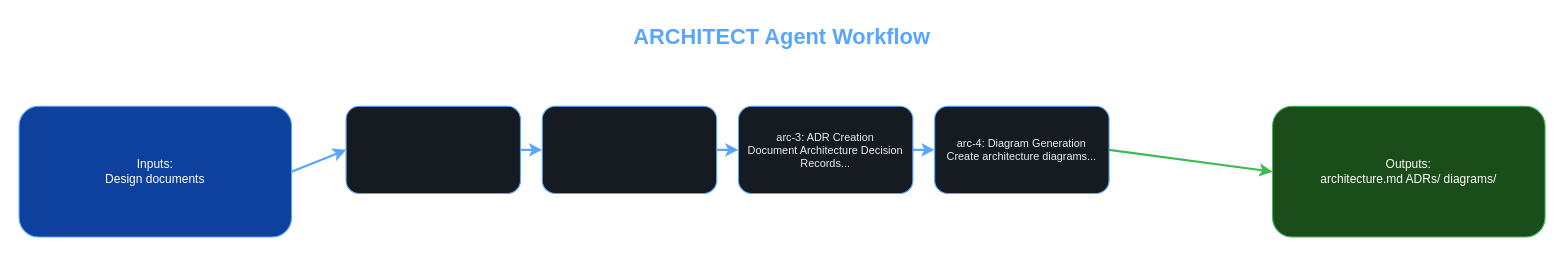
Image size: 1564x256. Some labels were removed from this diagram. Here are the shapes that lost their labels. From the top down, the centre of each, then its label:
pixel 432 149: arc-1: Tech Stack Selection Choose appropriate technologies...
pixel 629 149: arc-2: System Design Design overall system architecture...
